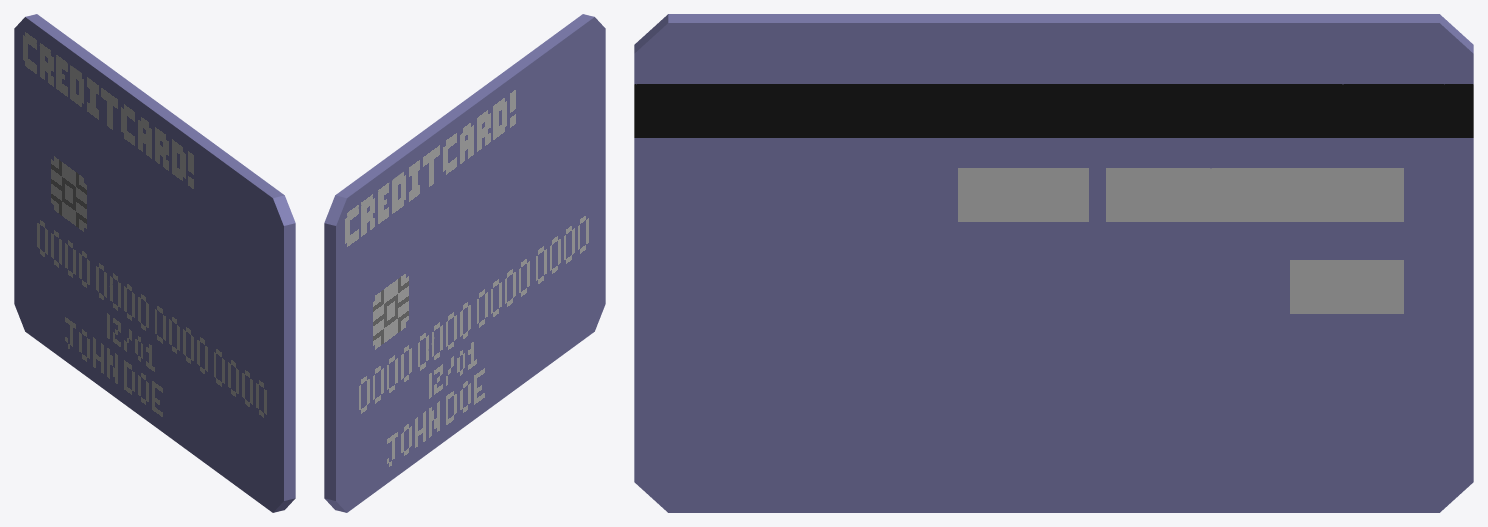
The model's file is creditcard.glb.
3 renders of one model, left to right at view 1: azimuth 30°, elevation 25°; view 2: azimuth 150°, elevation 25°; view 3: azimuth 270°, elevation 25°, orthographic. The views are drawn at different scales.
Visible parts, largest first — view 1: Cube; view 2: Cube; view 3: Cube.
Part boxes in pixels (x1,y1,x2,y2): Cube: (14,14,295,512); Cube: (324,14,605,512); Cube: (634,14,1473,512).
Size of the model in its own units: 0.2477 by 6.28 by 9.75.
1 material, 1 textured.
